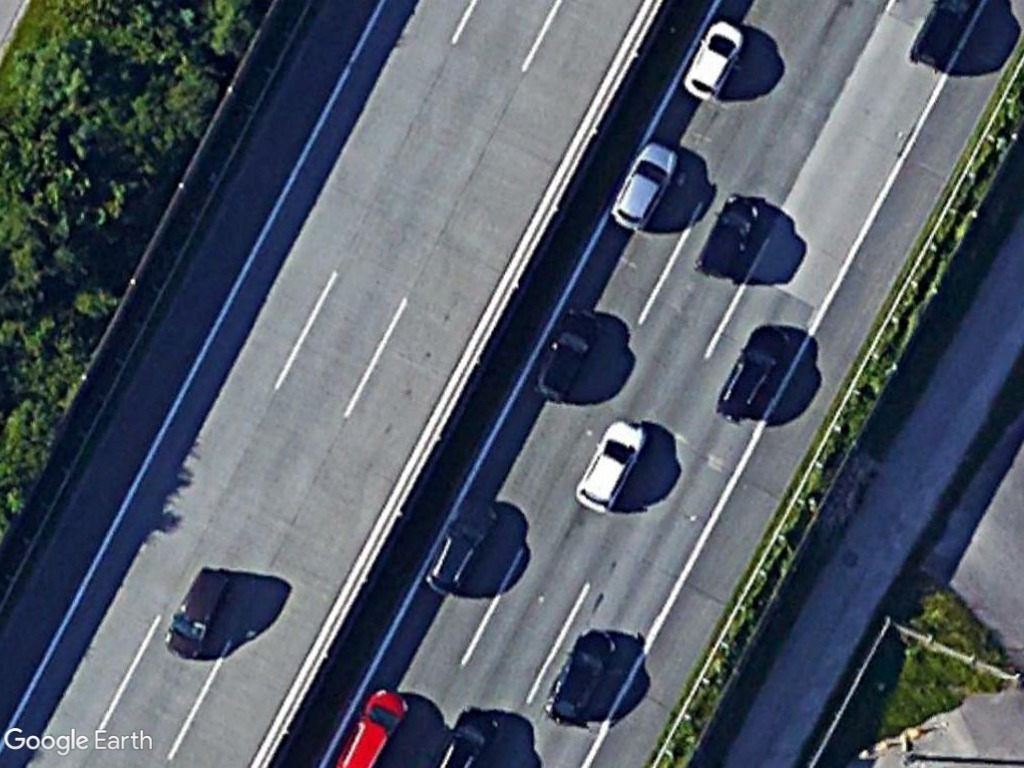car: (712, 324, 794, 429), (540, 624, 623, 727), (420, 496, 499, 603), (525, 302, 607, 404), (158, 559, 235, 664), (603, 137, 685, 235), (574, 416, 651, 519), (693, 191, 768, 286), (677, 14, 752, 106)
